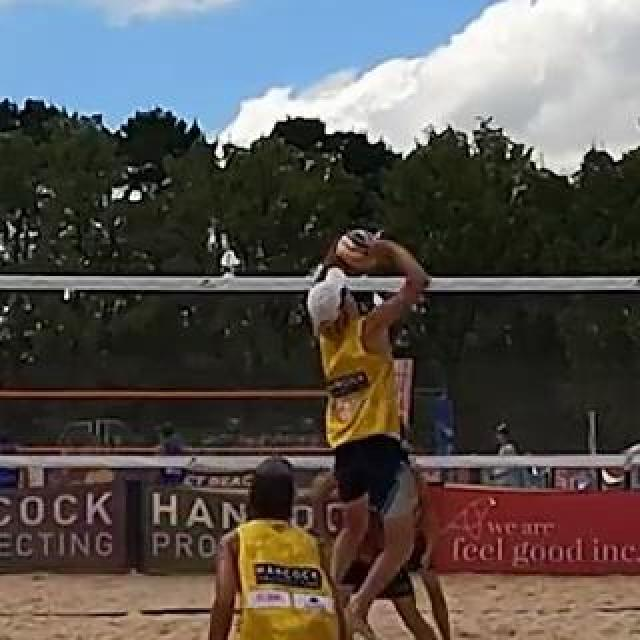volleyball: (336, 227, 376, 273)
